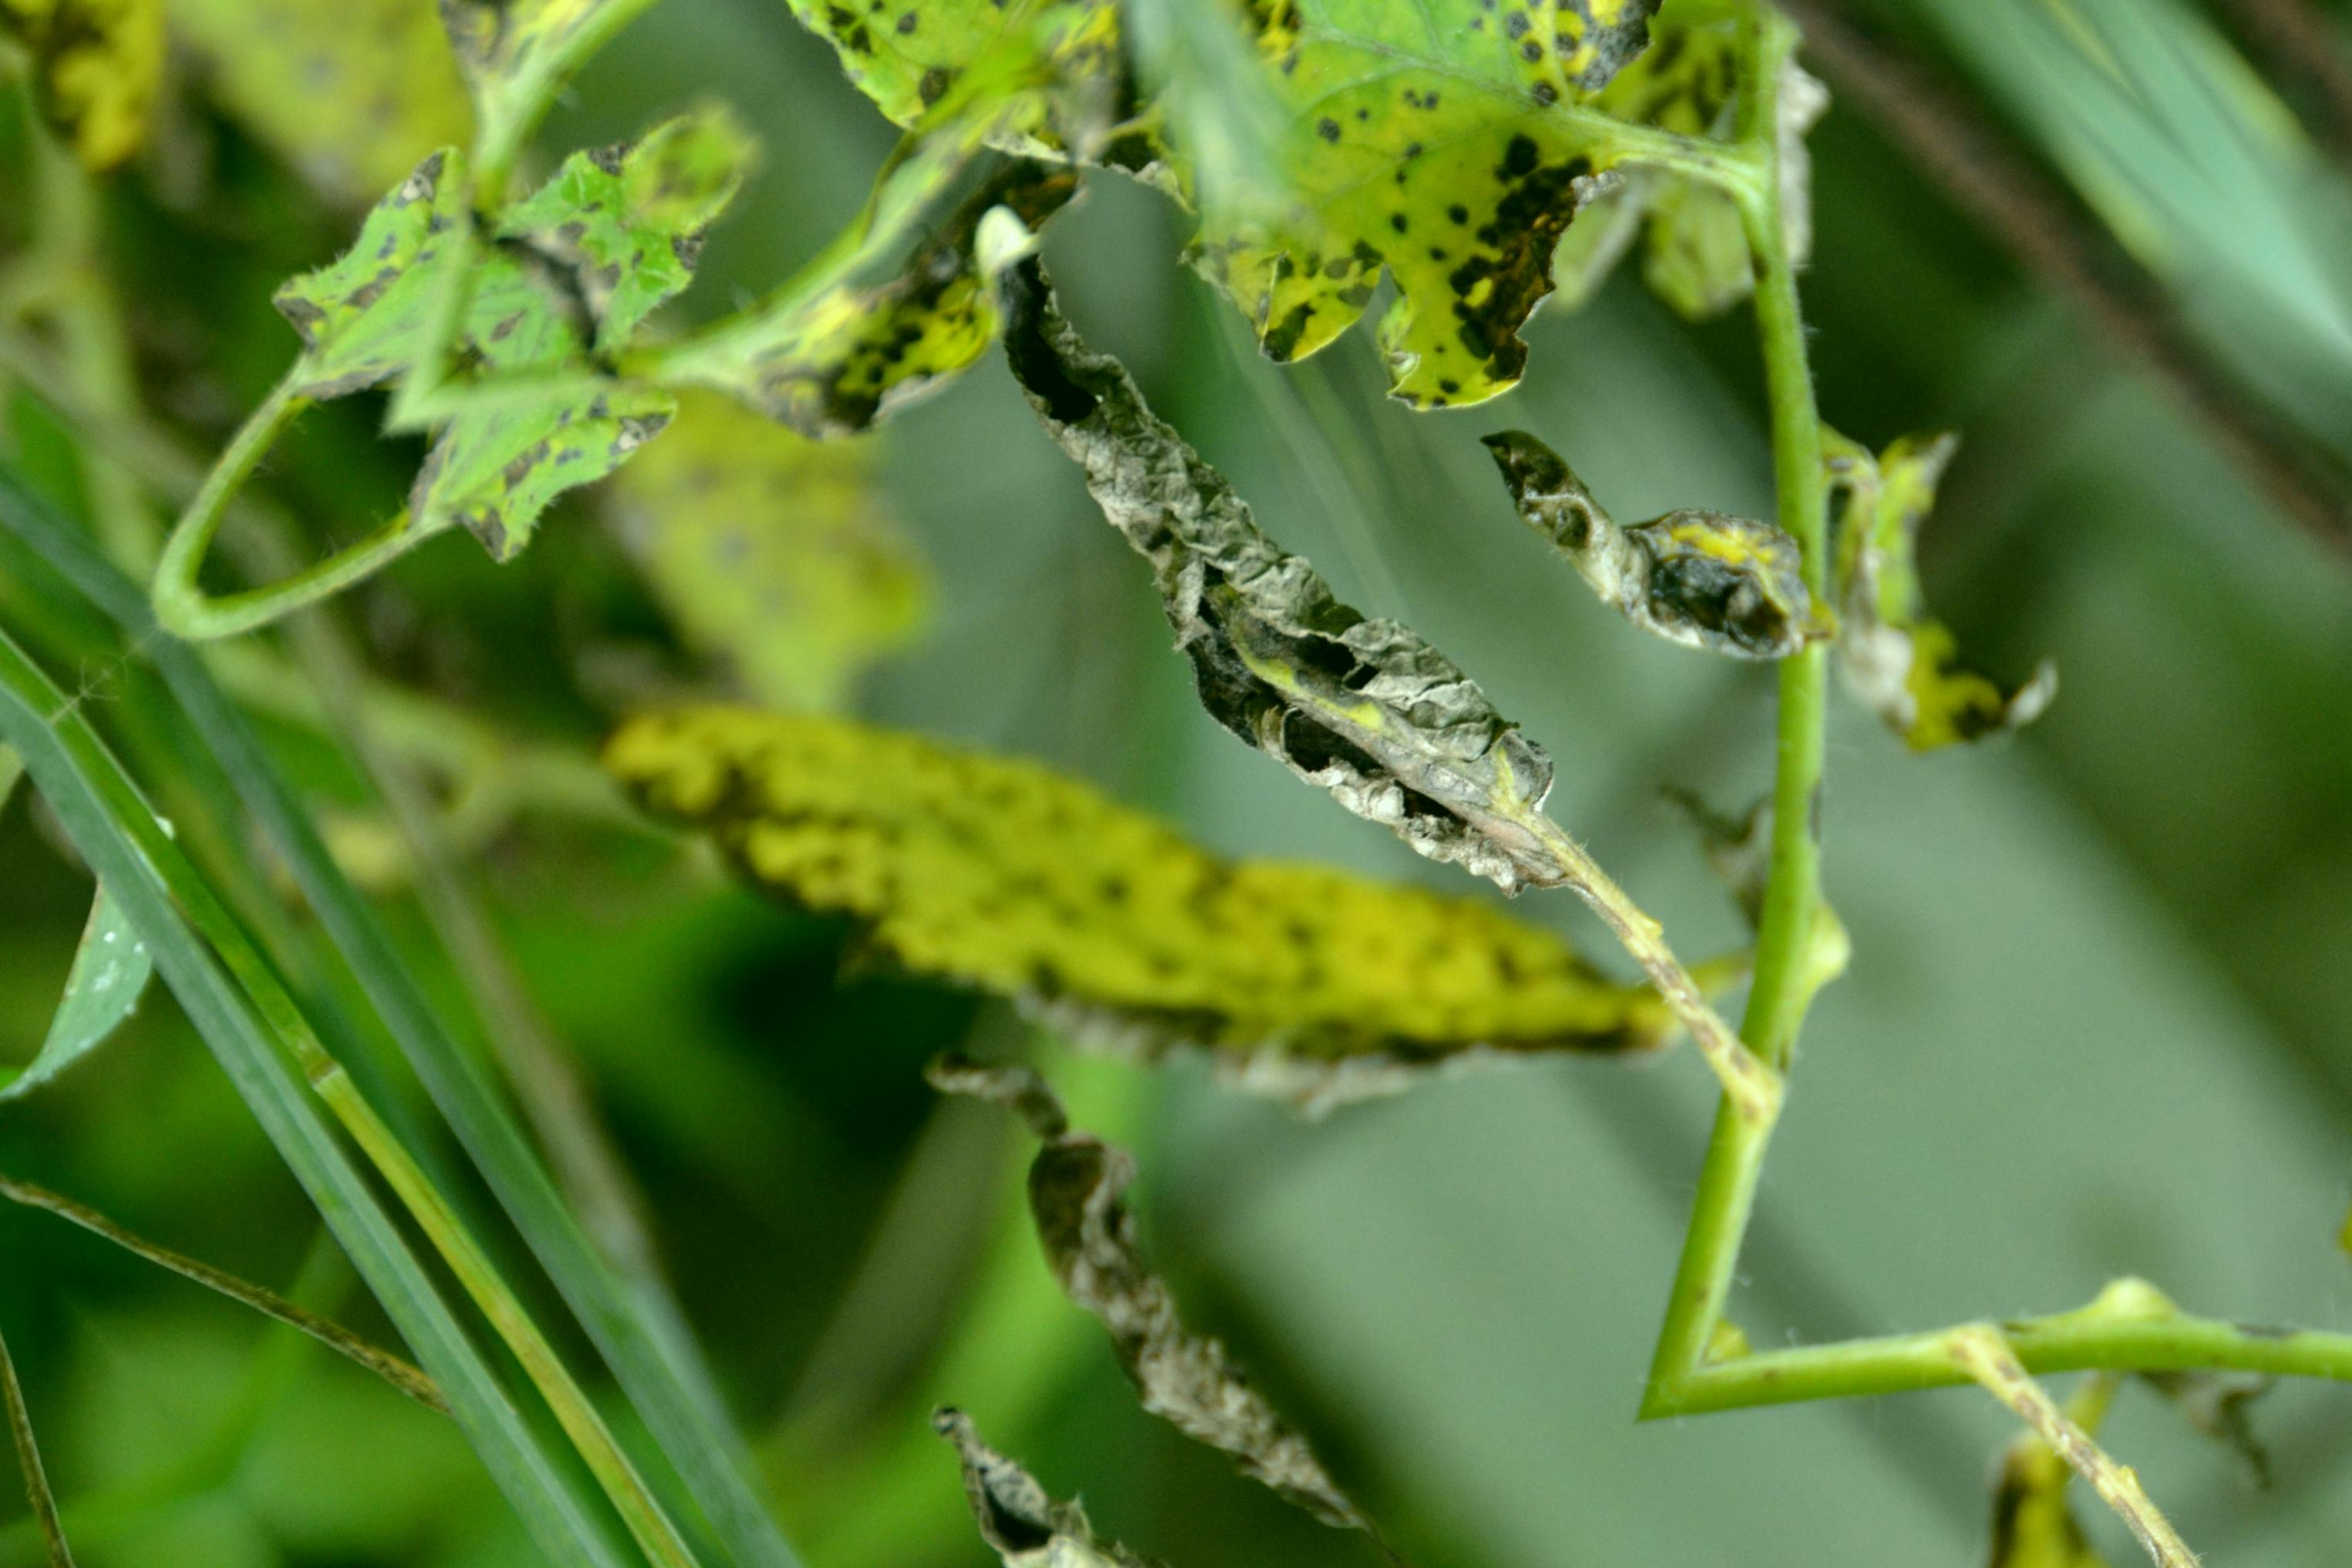Tomato Septoria leaf spot: (612, 362, 1668, 1444), (843, 0, 1813, 567)
